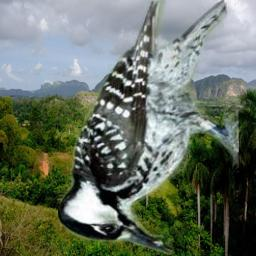Woodpecker: (58, 0, 239, 256)
